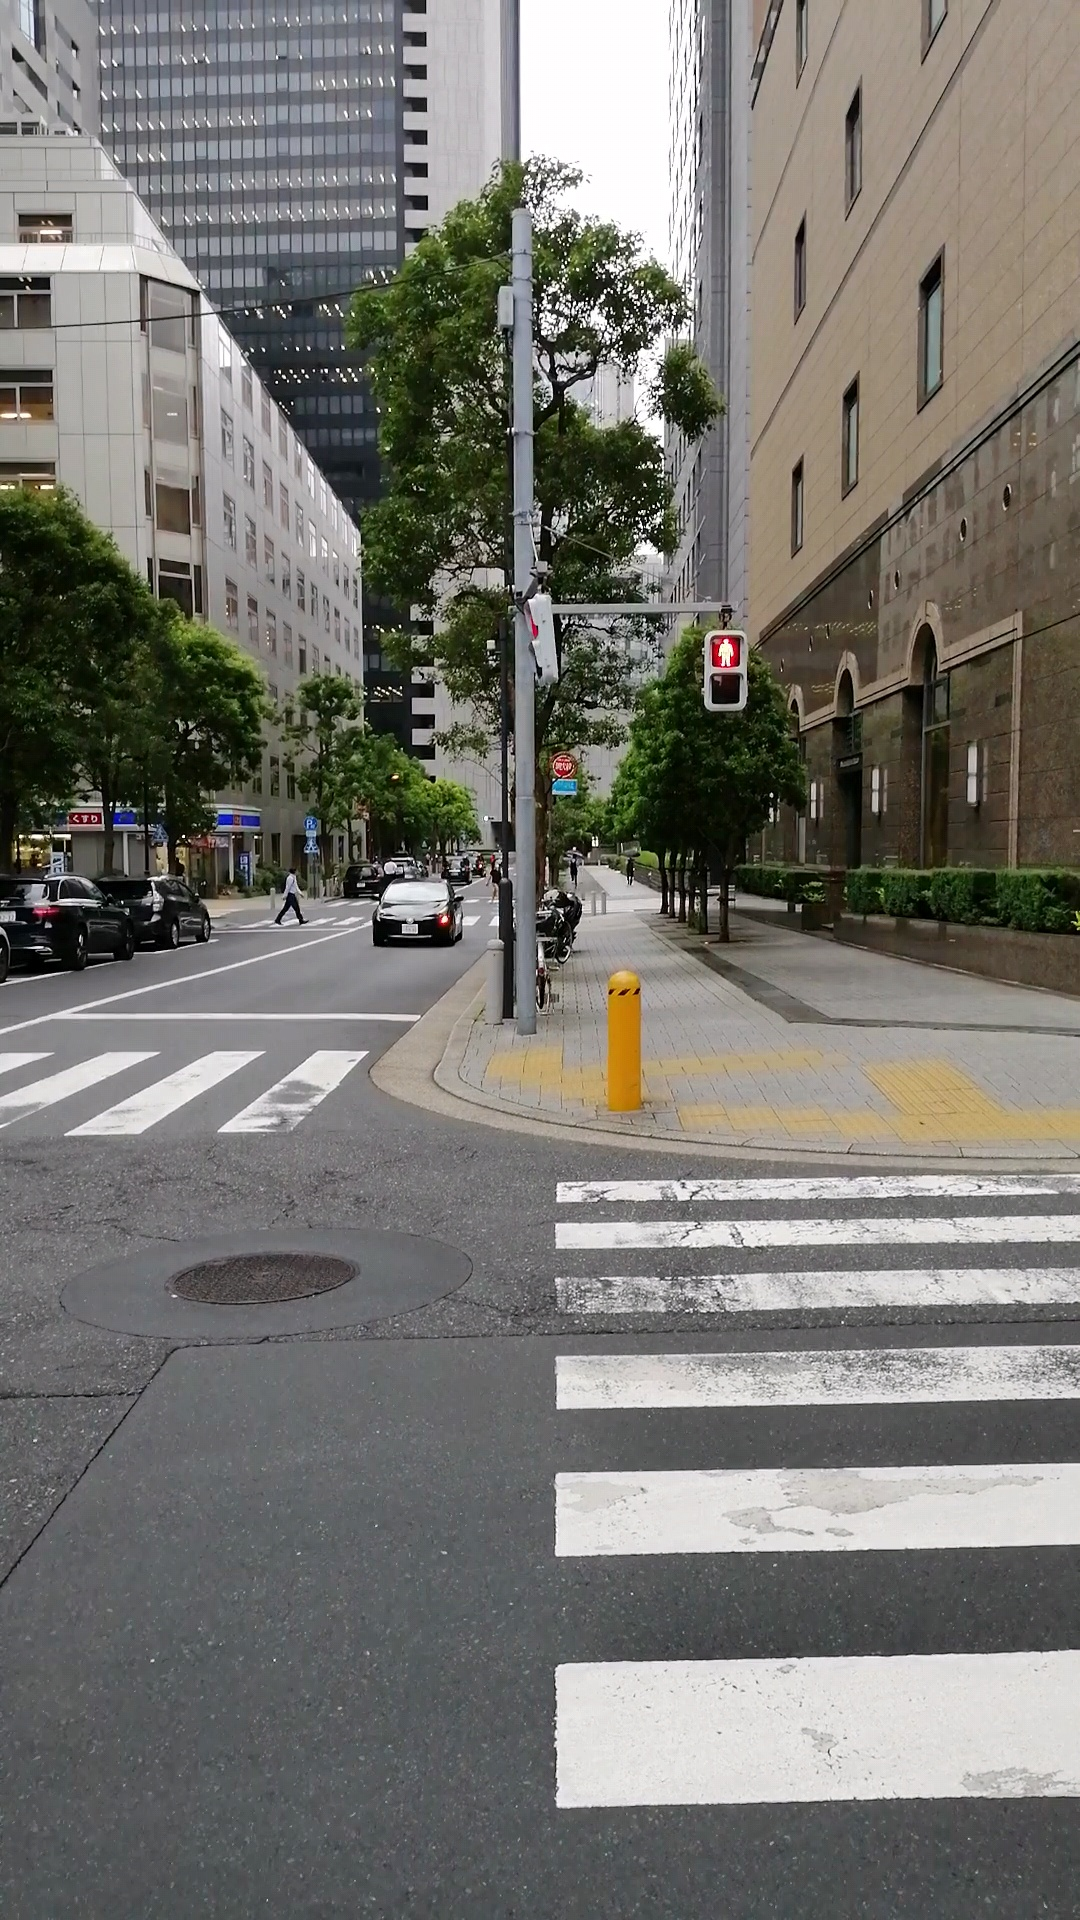red: (702, 629, 746, 712)
